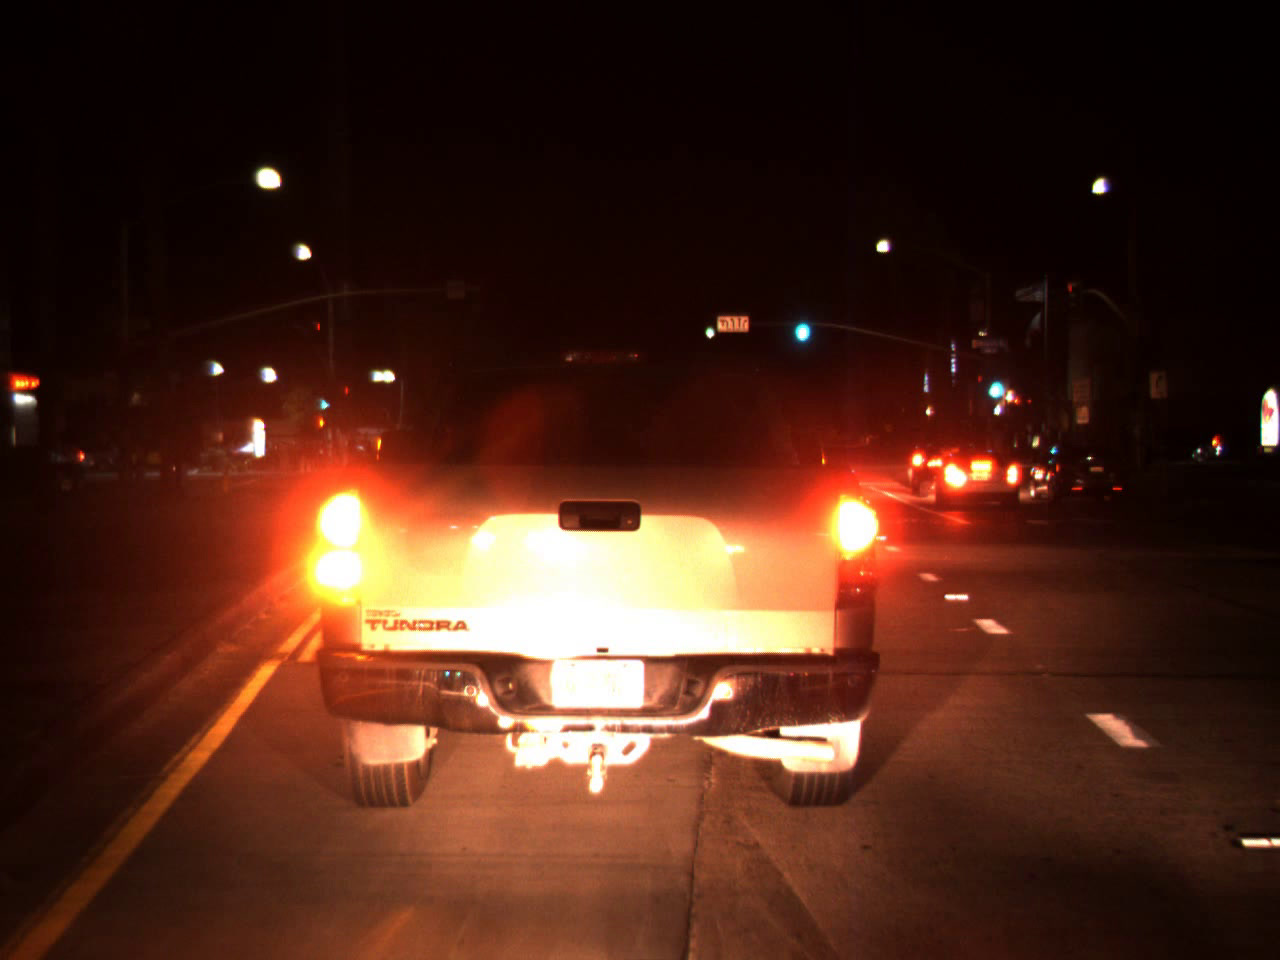go: (789, 301, 812, 348), (983, 362, 1008, 404), (702, 313, 716, 343), (315, 388, 329, 412)
